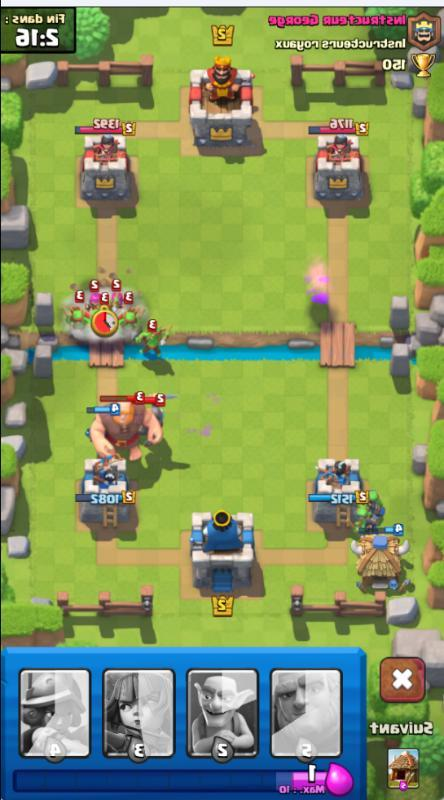enemy_archers: (83, 278, 103, 312)
enemy_giant: (84, 393, 165, 463)
enemy_spear_goblins: (135, 320, 170, 359), (117, 289, 145, 331), (65, 289, 90, 331)
player_goblin_hut: (350, 528, 415, 597)
player_spear_goblins: (349, 502, 378, 533), (362, 488, 387, 518)
